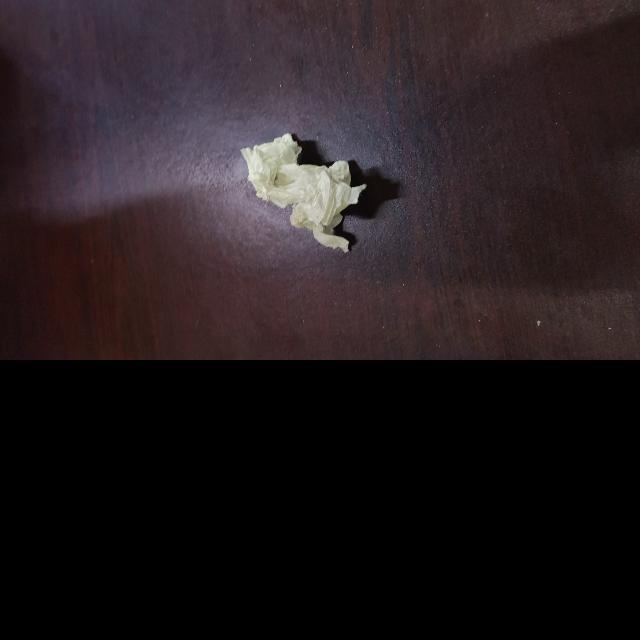kitchen paper: (243, 125, 369, 256)
